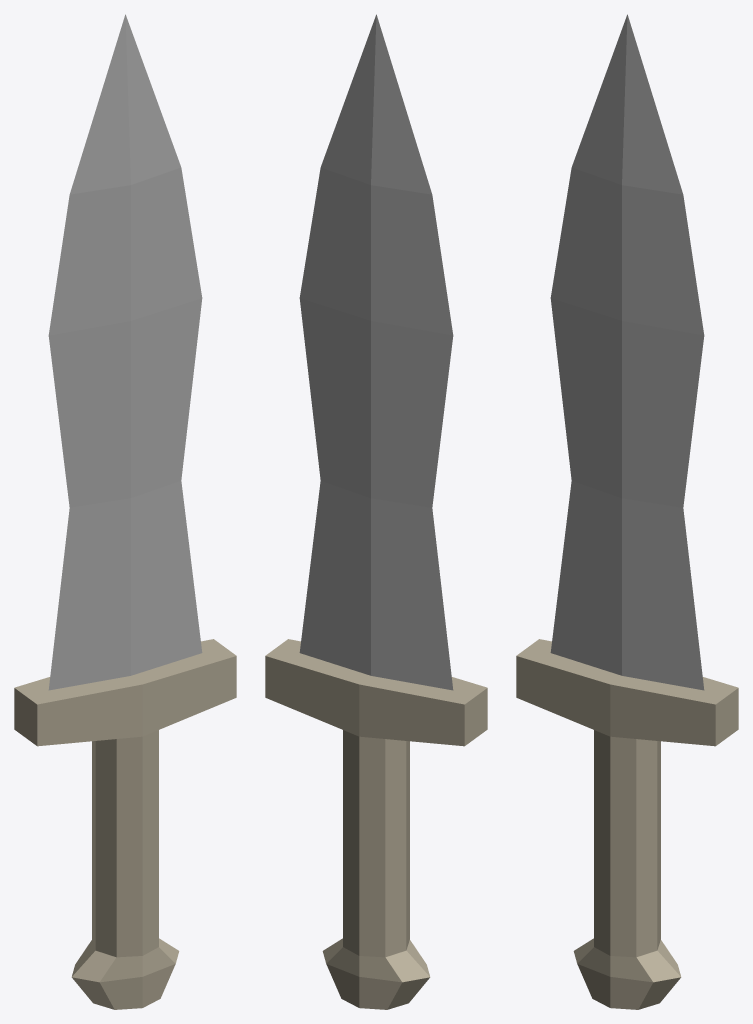
File: roman_weapon_knife.fbx
The picture shows the model from 3 angles, left to right: view 1: azimuth 30°, elevation 25°; view 2: azimuth 150°, elevation 25°; view 3: azimuth 330°, elevation 25°; orthographic projection.
Parts seen in each view (by area): view 1: Cube.034; view 2: Cube.034; view 3: Cube.034.
Part boxes in pixels (x1,y1,x2,y2): Cube.034: [14, 14, 236, 1009]; Cube.034: [265, 14, 487, 1009]; Cube.034: [516, 14, 738, 1009].
Size of the model in its own units: 0.07 by 0.3289 by 0.021.
